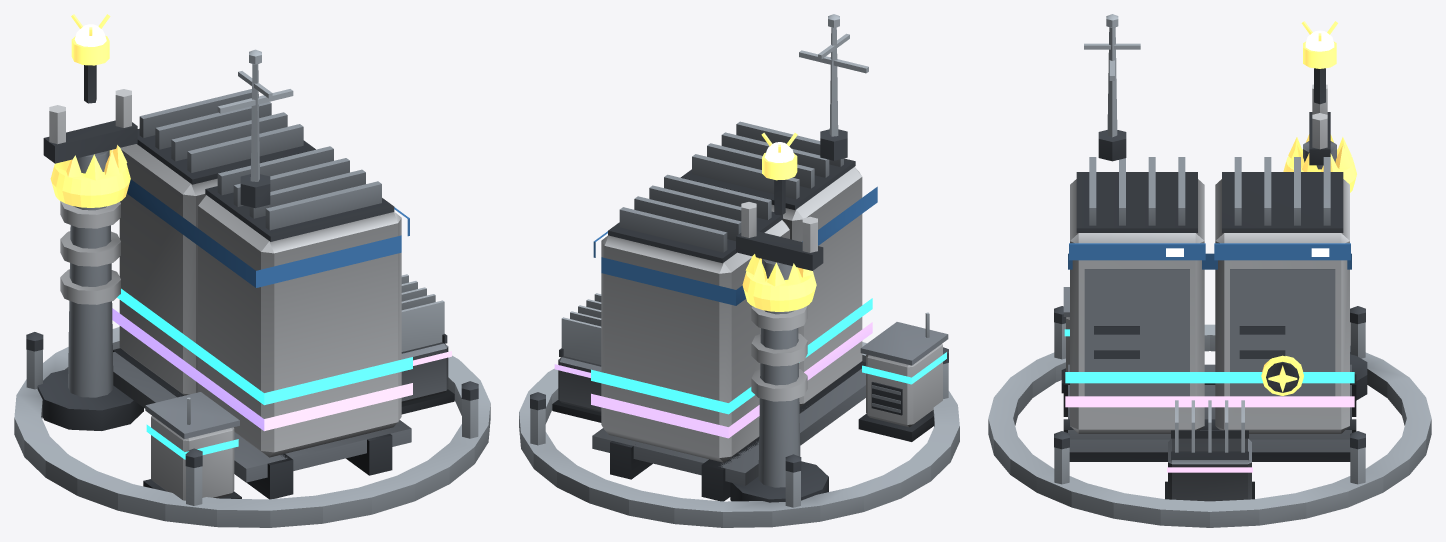
The model's file is battery_s.glb.
3 views of the same model, side by side, from view 1: azimuth 30°, elevation 25°; view 2: azimuth 150°, elevation 25°; view 3: azimuth 270°, elevation 25° (orthographic). The views are drawn at different scales.
Visible parts, largest first — view 1: Base, L2, L3, L4, L5; view 2: Base, L2, L3, L4, L5; view 3: Base, L2, L4, L5, L3.
Boxes of the visible parts, <box> form: Base: <box>37,89,411,499</box>; L2: <box>14,49,490,527</box>; L3: <box>117,288,412,500</box>; L4: <box>112,274,454,431</box>; L5: <box>50,14,130,207</box>; Base: <box>592,121,877,502</box>; L2: <box>519,14,959,527</box>; L3: <box>591,298,948,441</box>; L4: <box>552,293,872,438</box>; L5: <box>742,132,816,311</box>; Base: <box>1063,84,1367,461</box>; L2: <box>988,14,1431,527</box>; L4: <box>1065,396,1354,501</box>; L5: <box>1261,21,1356,395</box>; L3: <box>1061,287,1354,393</box>.
Bounding box in the file's own units: 2.5 × 2.48 × 2.5.
